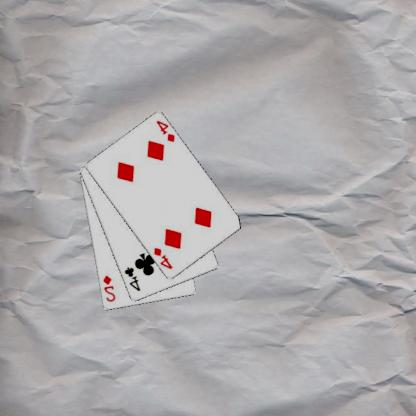2D: (102, 273, 118, 303)
4C: (124, 264, 143, 292)
4D: (152, 245, 176, 271), (155, 118, 178, 144)
